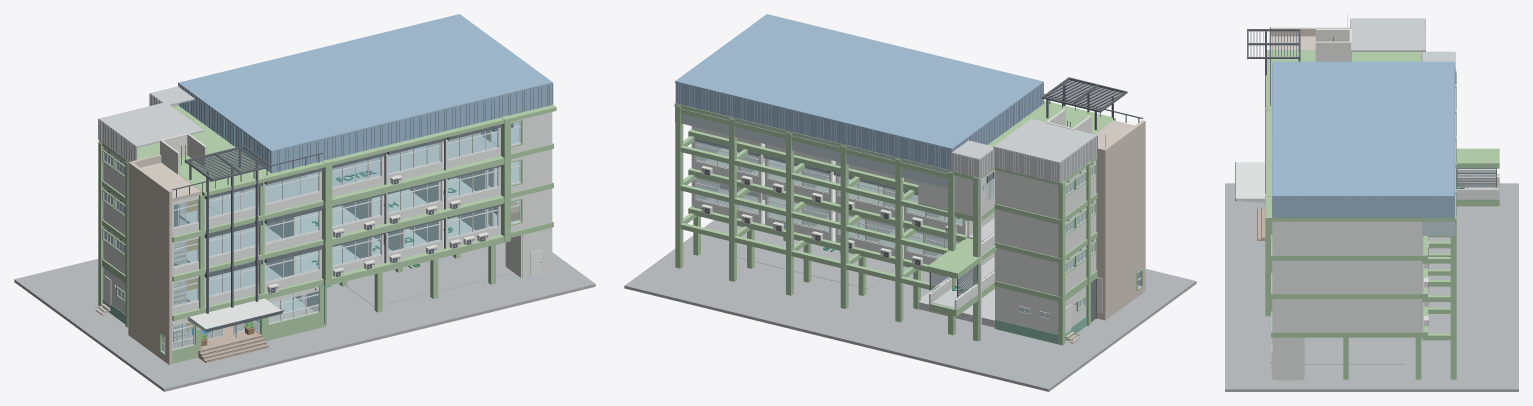
The model's file is bld4f_model.glb.
3 views of the same model, side by side, from view 1: azimuth 30°, elevation 25°; view 2: azimuth 150°, elevation 25°; view 3: azimuth 270°, elevation 25° (orthographic). The views are drawn at different scales.
Visible parts, largest first — view 1: Ext_08_Roof_Corrugated_Sheets, Ext_01_Walls_Beams_Green, Floor1_Structure_Walls, Ext_03_Glass_Clear_Frosted, Ext_04_Steel_Louvers_Pergola, Ext_02_Window_Door_Frames, F1_B_Parking, F4_Front_Foyer, Floor2_Interior_Walls, Floor3_Interior_Walls, Core_Stairs_And_Elevator, Ext_06_Entrance_Stairs_Props (+6 smaller); view 2: Ext_08_Roof_Corrugated_Sheets, Ext_01_Walls_Beams_Green, Floor1_Structure_Walls, Ext_07_Skybridge_RearFrame, Ext_03_Glass_Clear_Frosted, Ext_04_Steel_Louvers_Pergola, Ext_02_Window_Door_Frames, F1_B_Parking, Floor2_Interior_Walls, Ext_05_AC_Units, Floor3_Interior_Walls, Core_Stairs_And_Elevator (+1 smaller); view 3: Ext_08_Roof_Corrugated_Sheets, Floor1_Structure_Walls, Ext_01_Walls_Beams_Green, Ext_07_Skybridge_RearFrame, F1_B_Parking, Ext_04_Steel_Louvers_Pergola, Core_Stairs_And_Elevator, Ext_06_Entrance_Stairs_Props.
Part boxes in pixels (left/top/right/bottom): Ext_08_Roof_Corrugated_Sheets: left=98, top=14, right=556, bottom=201; Ext_01_Walls_Beams_Green: left=98, top=112, right=553, bottom=364; Floor1_Structure_Walls: left=14, top=235, right=595, bottom=391; Ext_03_Glass_Clear_Frosted: left=104, top=122, right=519, bottom=352; Ext_04_Steel_Louvers_Pergola: left=95, top=124, right=541, bottom=361; Ext_02_Window_Door_Frames: left=103, top=121, right=542, bottom=350; F1_B_Parking: left=346, top=249, right=511, bottom=306; F4_Front_Foyer: left=209, top=135, right=496, bottom=214; Floor2_Interior_Walls: left=184, top=201, right=519, bottom=301; Floor3_Interior_Walls: left=184, top=168, right=494, bottom=262; Core_Stairs_And_Elevator: left=160, top=133, right=206, bottom=343; Ext_06_Entrance_Stairs_Props: left=95, top=303, right=268, bottom=362; Ext_08_Roof_Corrugated_Sheets: left=674, top=14, right=1145, bottom=185; Ext_01_Walls_Beams_Green: left=688, top=120, right=1145, bottom=345; Floor1_Structure_Walls: left=624, top=216, right=1196, bottom=391; Ext_07_Skybridge_RearFrame: left=675, top=104, right=996, bottom=341; Ext_03_Glass_Clear_Frosted: left=697, top=142, right=1140, bottom=318; Ext_04_Steel_Louvers_Pergola: left=694, top=77, right=1142, bottom=340; Ext_02_Window_Door_Frames: left=696, top=141, right=1141, bottom=340; F1_B_Parking: left=737, top=232, right=895, bottom=289; Floor2_Interior_Walls: left=705, top=184, right=994, bottom=278; Ext_05_AC_Units: left=701, top=165, right=956, bottom=266; Floor3_Interior_Walls: left=738, top=152, right=994, bottom=241; Core_Stairs_And_Elevator: left=1046, top=109, right=1102, bottom=255; Ext_08_Roof_Corrugated_Sheets: left=1265, top=18, right=1455, bottom=221; Floor1_Structure_Walls: left=1225, top=183, right=1518, bottom=391; Ext_01_Walls_Beams_Green: left=1235, top=27, right=1427, bottom=380; Ext_07_Skybridge_RearFrame: left=1422, top=70, right=1499, bottom=379; F1_B_Parking: left=1304, top=337, right=1405, bottom=364; Ext_04_Steel_Louvers_Pergola: left=1235, top=14, right=1496, bottom=363; Core_Stairs_And_Elevator: left=1315, top=29, right=1351, bottom=61; Ext_06_Entrance_Stairs_Props: left=1257, top=207, right=1265, bottom=240.
Bounding box in the file's own units: 40.3 × 17.08 × 24.3.
